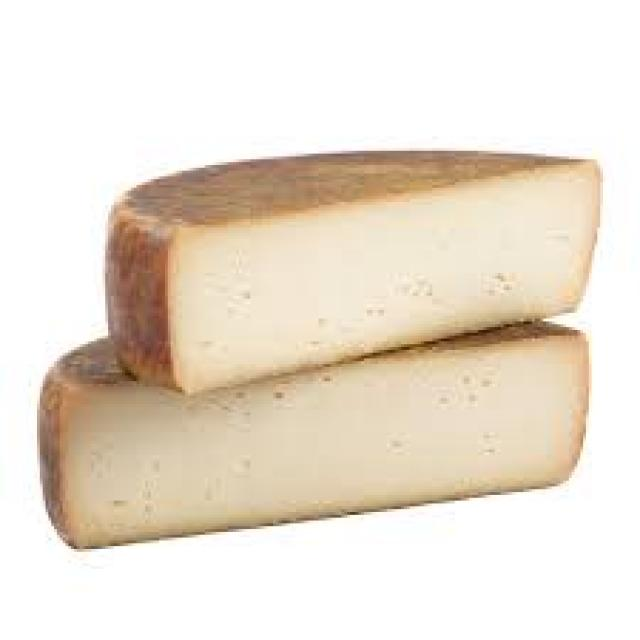Cheese: (89, 130, 603, 395), (31, 310, 595, 549)
